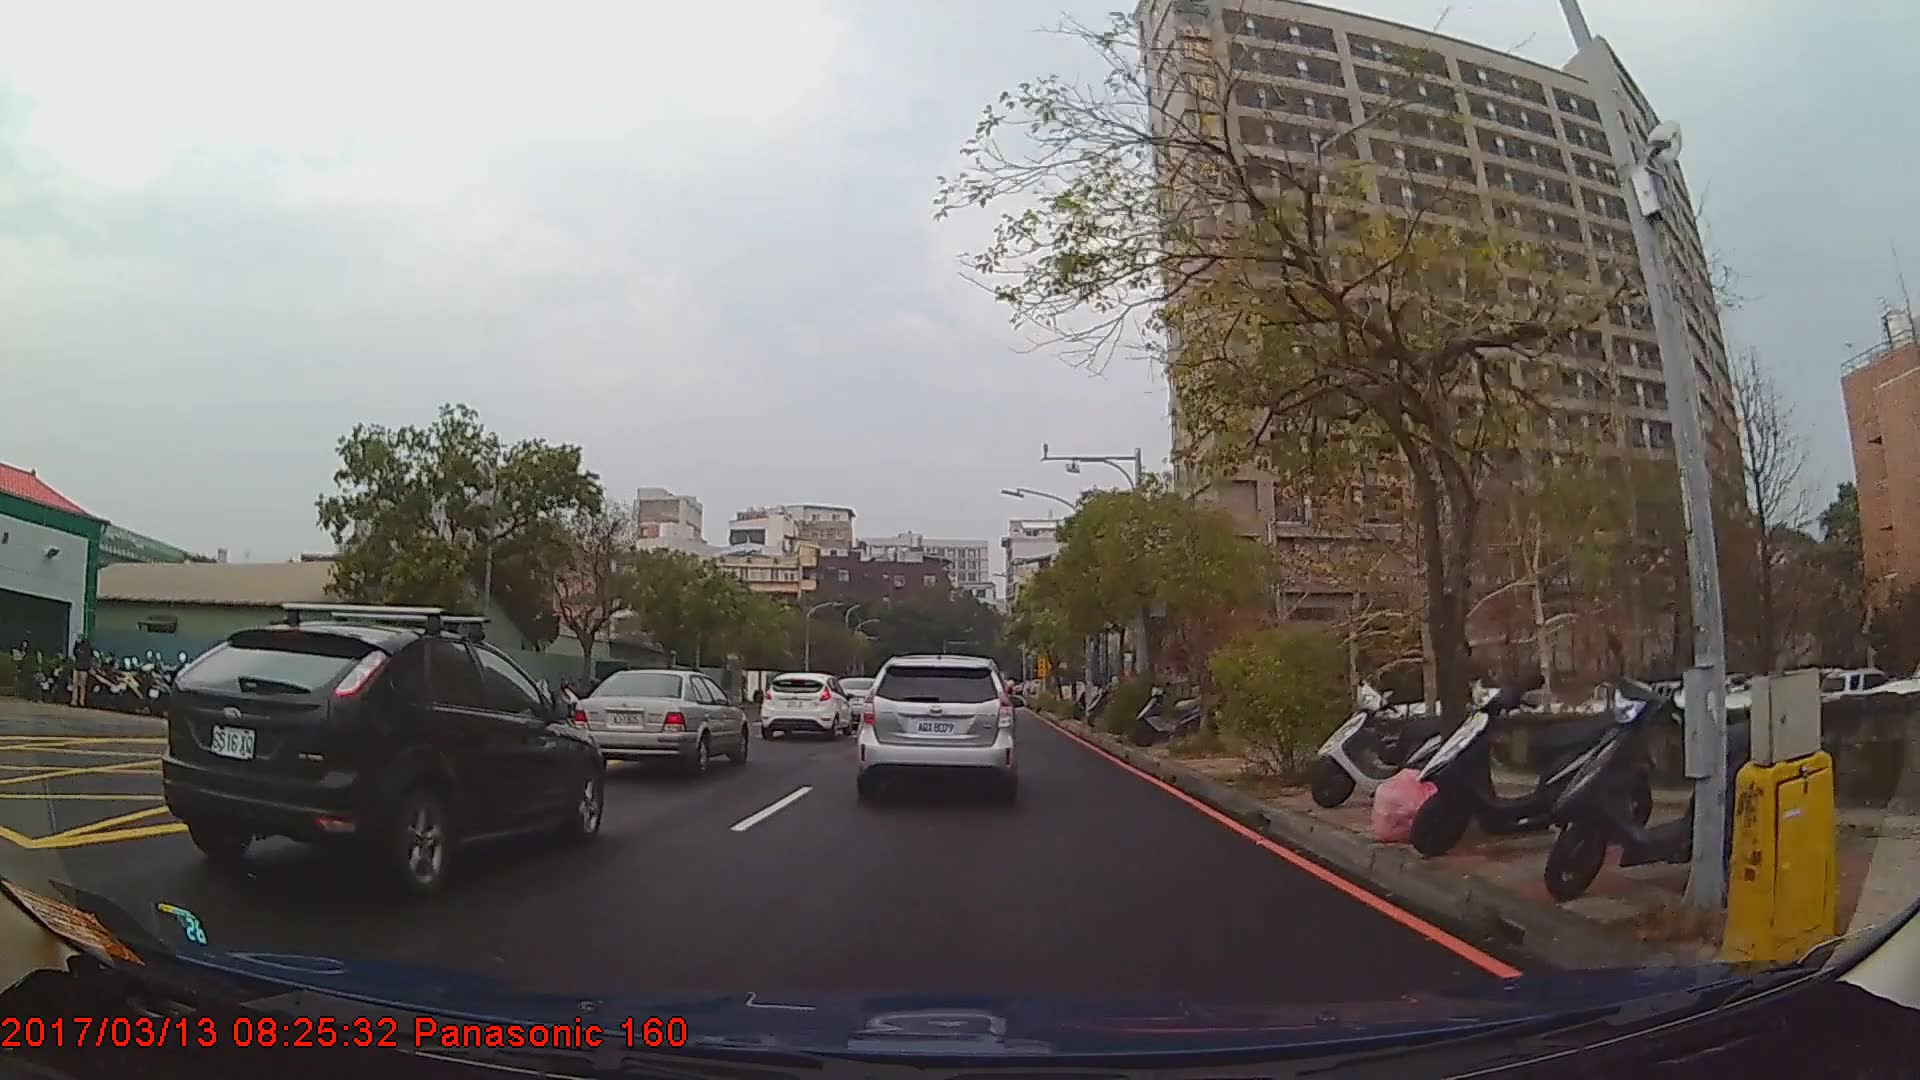pedestrian: (70, 633, 95, 711)
vehicle: (161, 622, 604, 891), (855, 651, 1014, 800), (567, 668, 748, 774), (759, 670, 854, 742)
